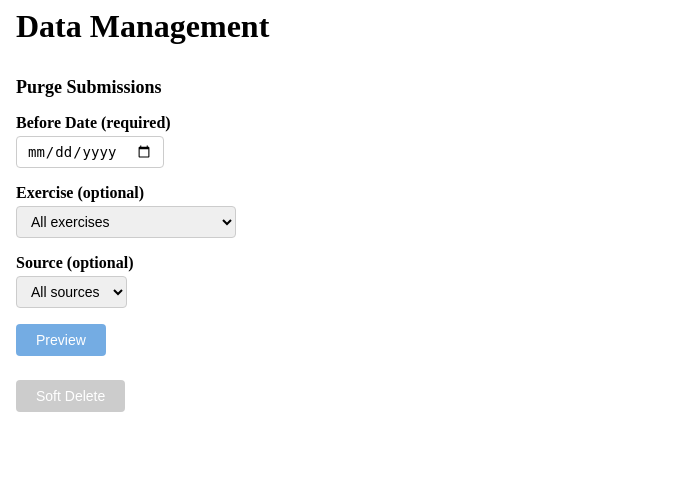
Test case: changing filter after preview disables purge buttons again
Type "2025-01-01" into the date field labelled "Before Date (required)" at (90, 152), box [16,136,164,168]
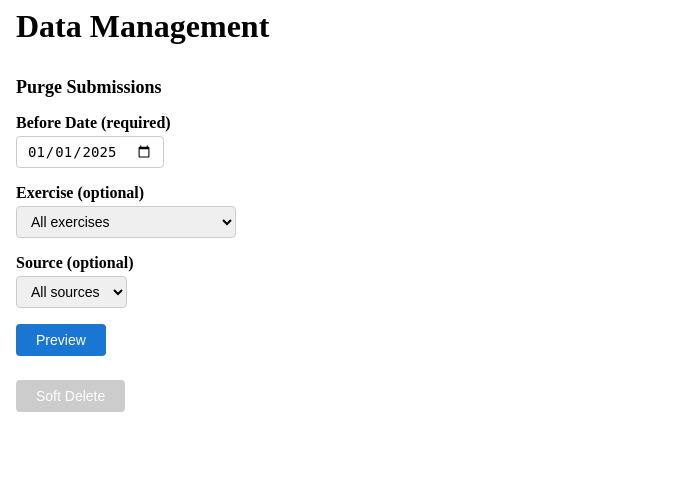
Click the button "Preview" at (61, 340), box [16,324,106,356]
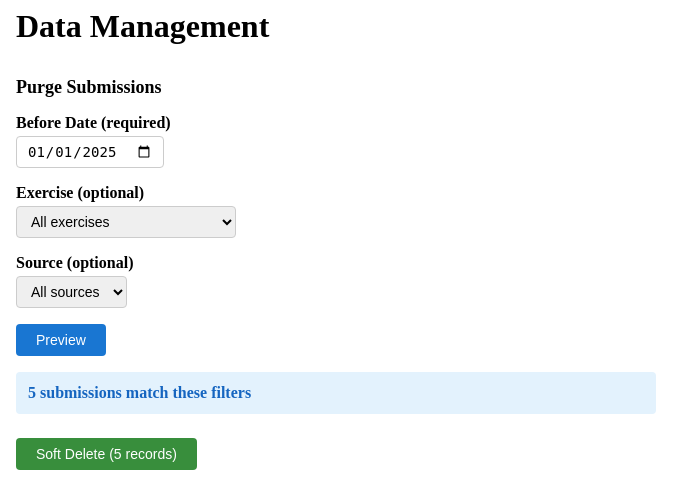
Check: the text "5 submissions match these filters" is shown, box [16,372,656,414]
Type "2024-01-01" into the date field labelled "Before Date (required)" at (90, 152), box [16,136,164,168]
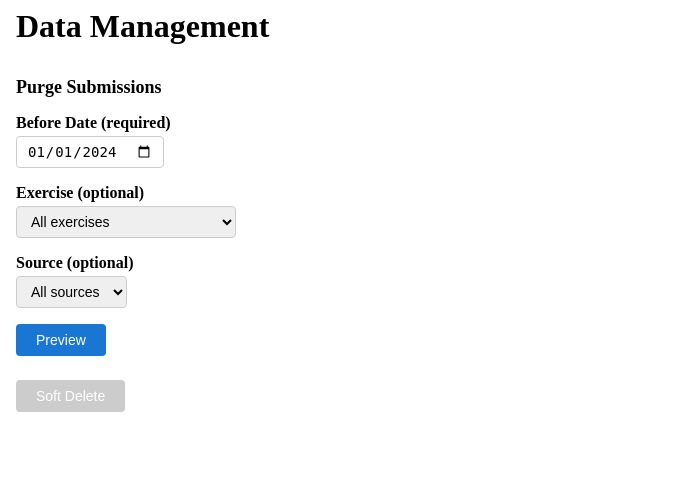
Check: the text "5 submissions match" is gone
Check: the button "Soft Delete" is disabled, box [16,380,125,412]
